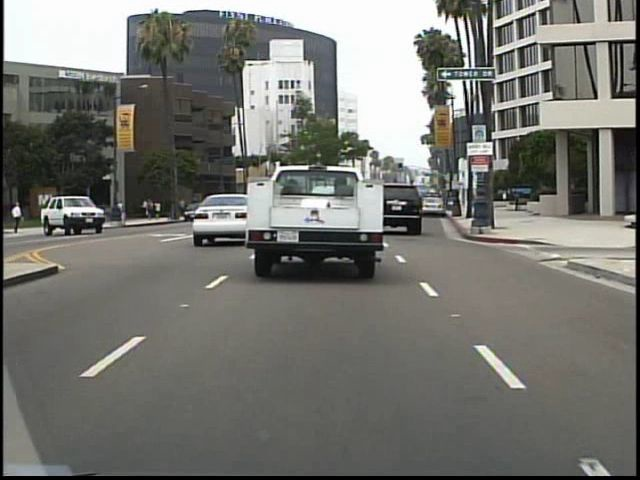person: (69, 191, 86, 228), (11, 196, 26, 235), (63, 198, 79, 232), (112, 194, 128, 224)
